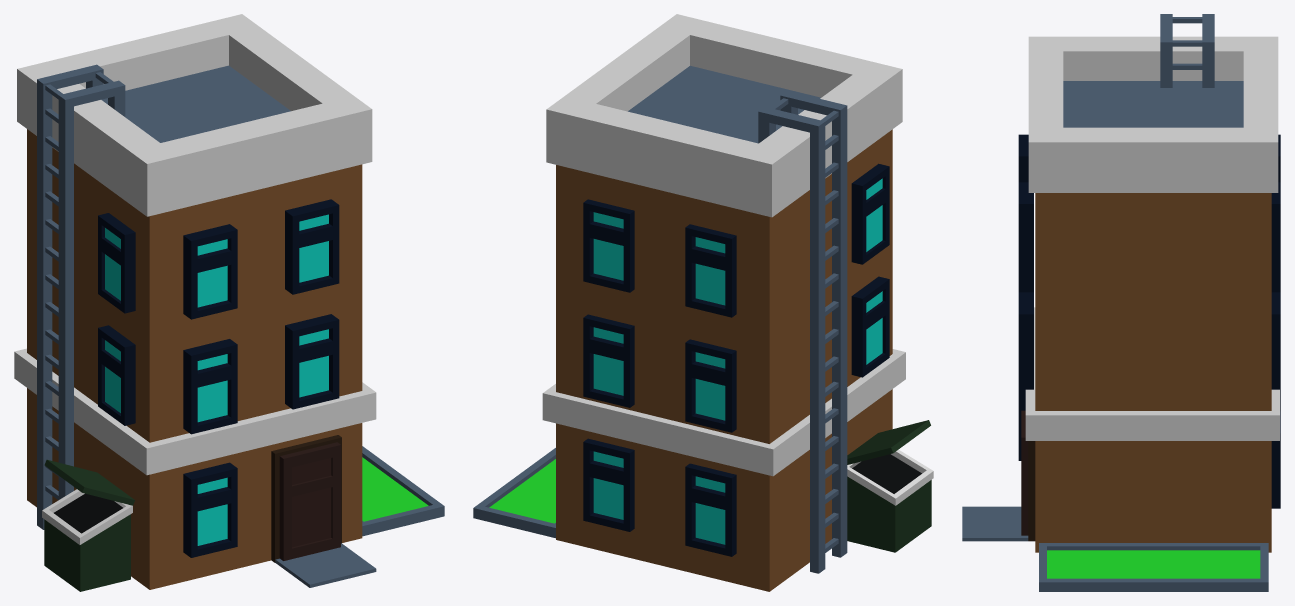
The model's file is TownHouse_9.fbx.
3 renders of one model, left to right at view 1: azimuth 30°, elevation 25°; view 2: azimuth 150°, elevation 25°; view 3: azimuth 270°, elevation 25°, orthographic. The views are drawn at different scales.
Parts seen in each view (by area): view 1: TownHouse_9; view 2: TownHouse_9; view 3: TownHouse_9.
Boxes of the visible parts, x1=… form: TownHouse_9: x1=14, y1=14, x2=444, y2=591; TownHouse_9: x1=473, y1=14, x2=933, y2=591; TownHouse_9: x1=962, y1=14, x2=1280, y2=591.
Size of the model in its own units: 33.42 by 40.57 by 27.23.
